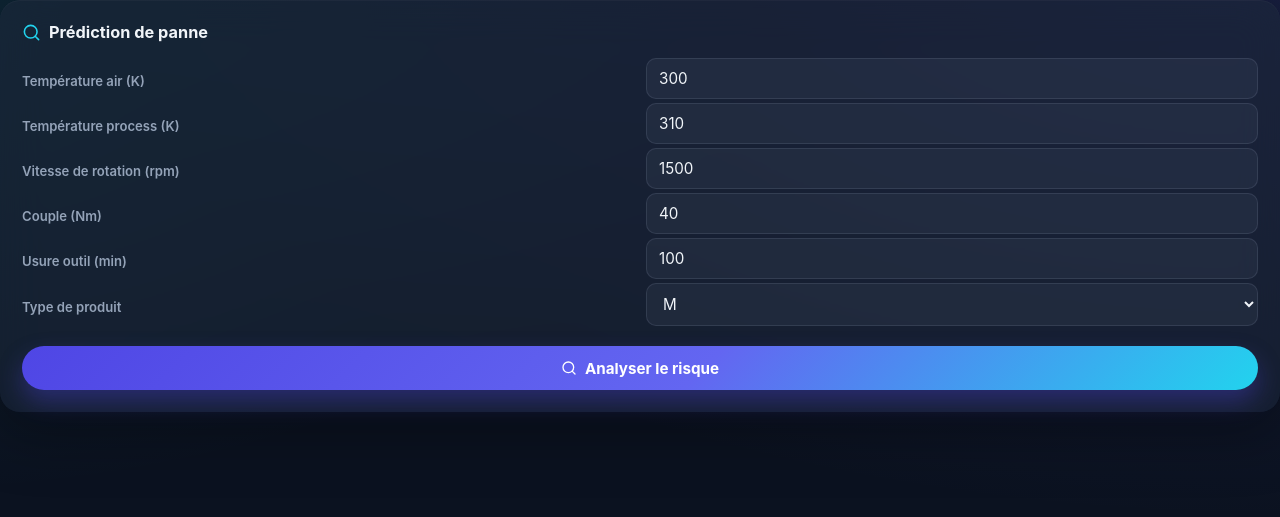
Test case: PredictFailureForm › appelle l'API et affiche le resultat apres une prediction reussie
The image size is (1280, 517).
Click the button "Analyser le risque" at [640, 368], box [22,346,1258,390]
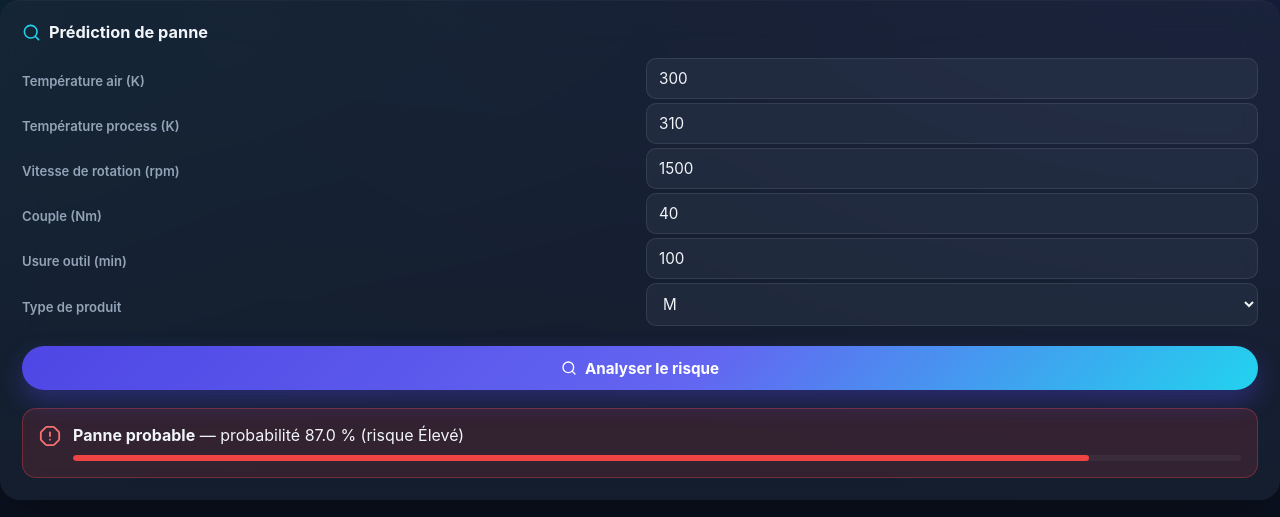
Now the message shows "Panne probable", box [73,425,195,445]
Now the message shows "87.0 %", box [22,408,1258,478]
